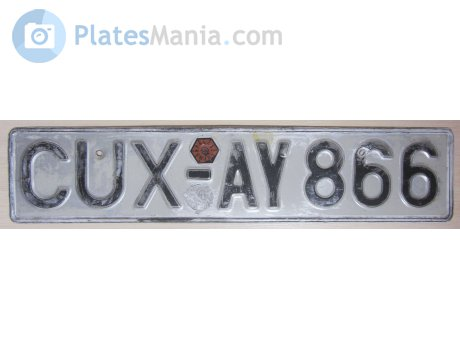License Plates: (24, 136, 441, 208)
